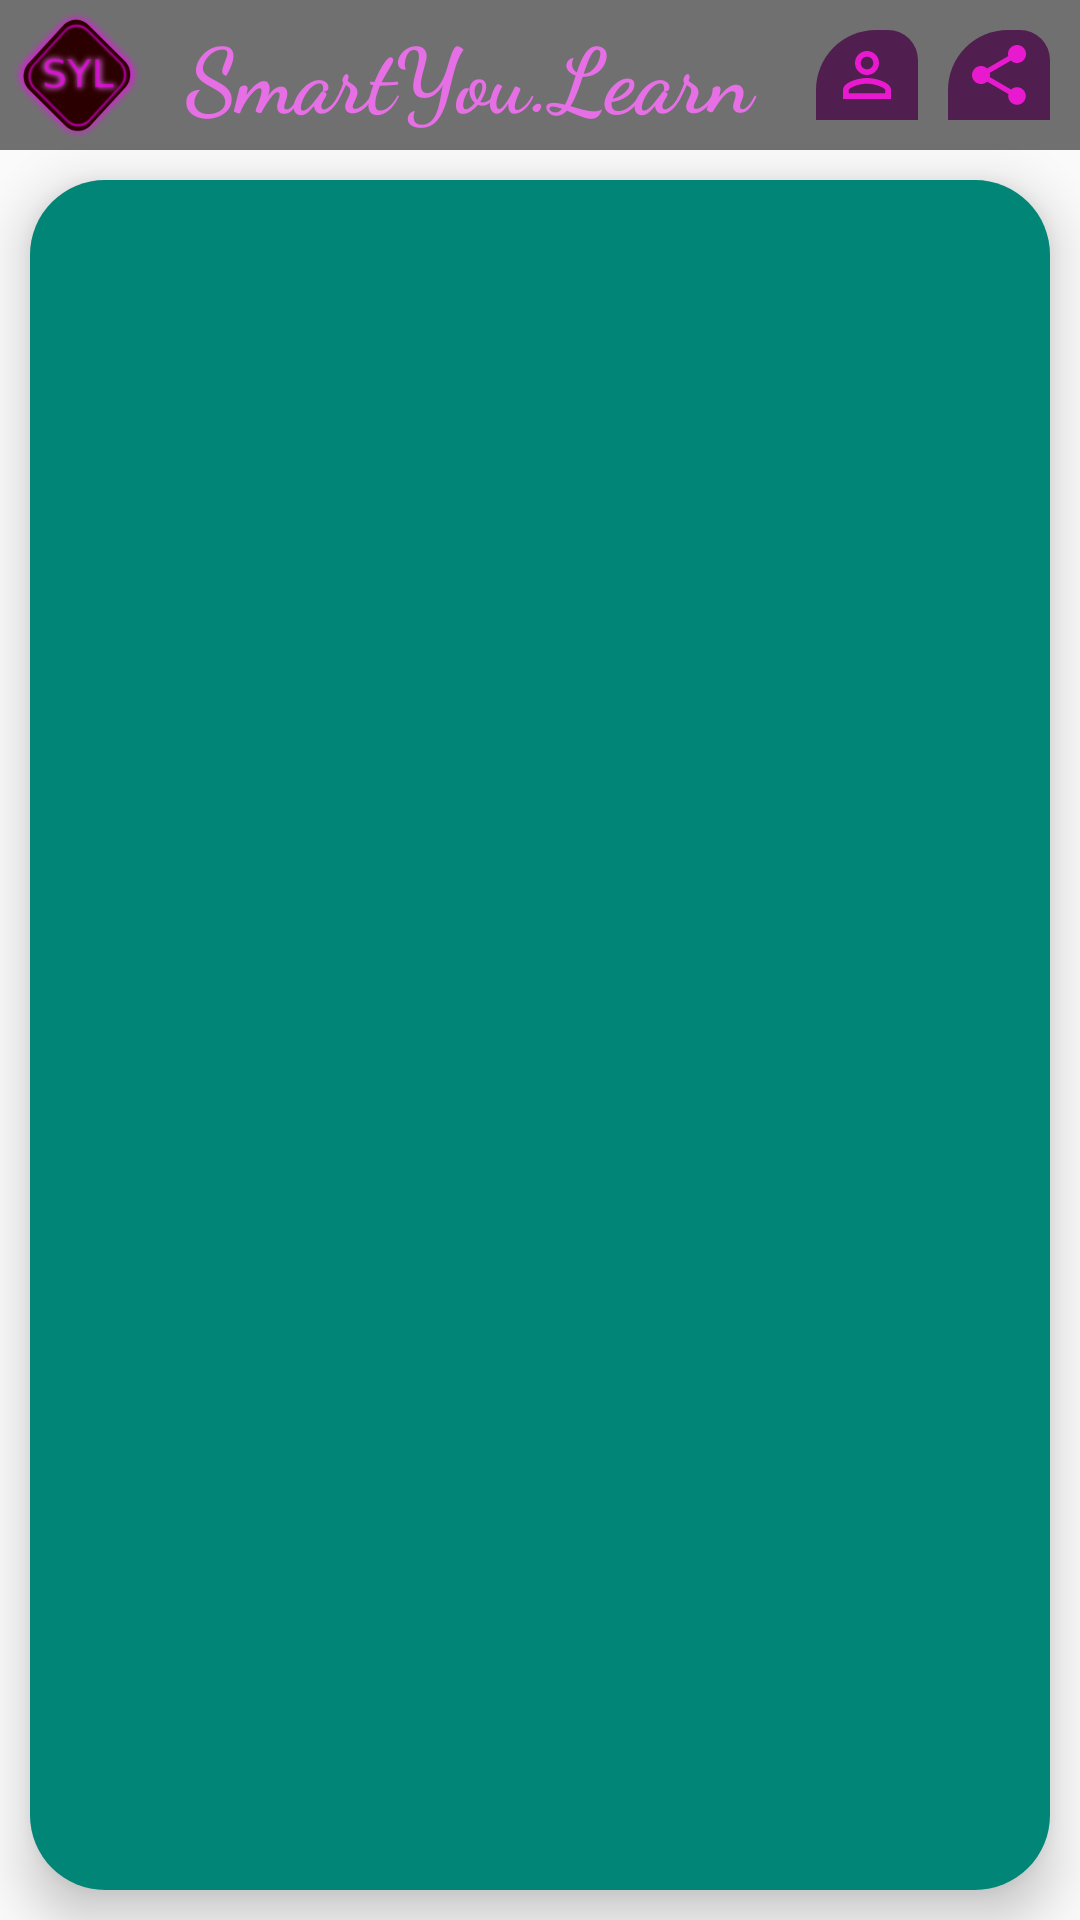

Screen size 1080px x 1920px. Icon name, then its center in pixels as [x,y]:
person: [867,75]
share: [999,75]
